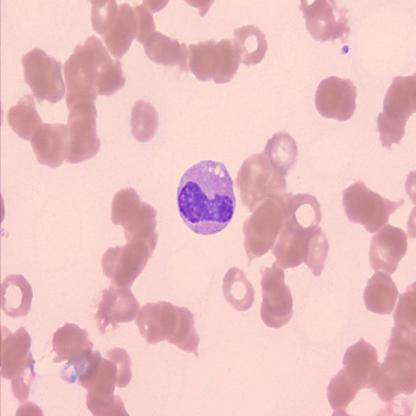Metamyelocyte: (174, 158, 239, 237)
